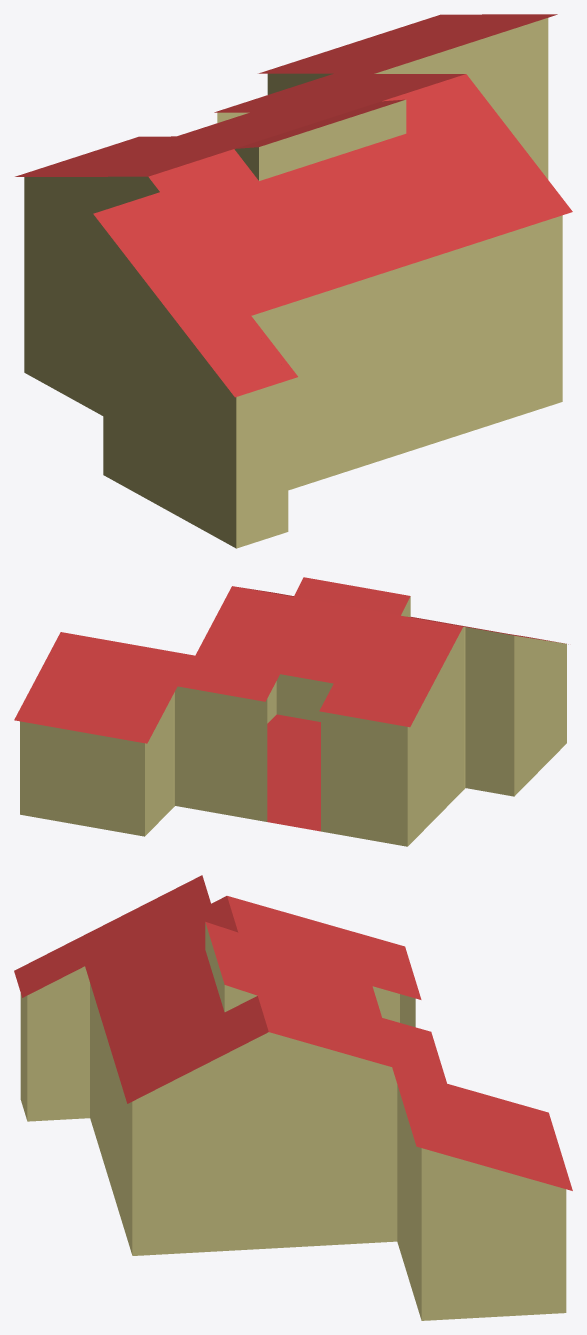
3 renders of one model, top to bottom at view 1: azimuth 30°, elevation 25°; view 2: azimuth 150°, elevation 25°; view 3: azimuth 270°, elevation 25°, orthographic. The views are drawn at different scales.
Size of the model in its own units: 23.64 by 23.57 by 10.78.
